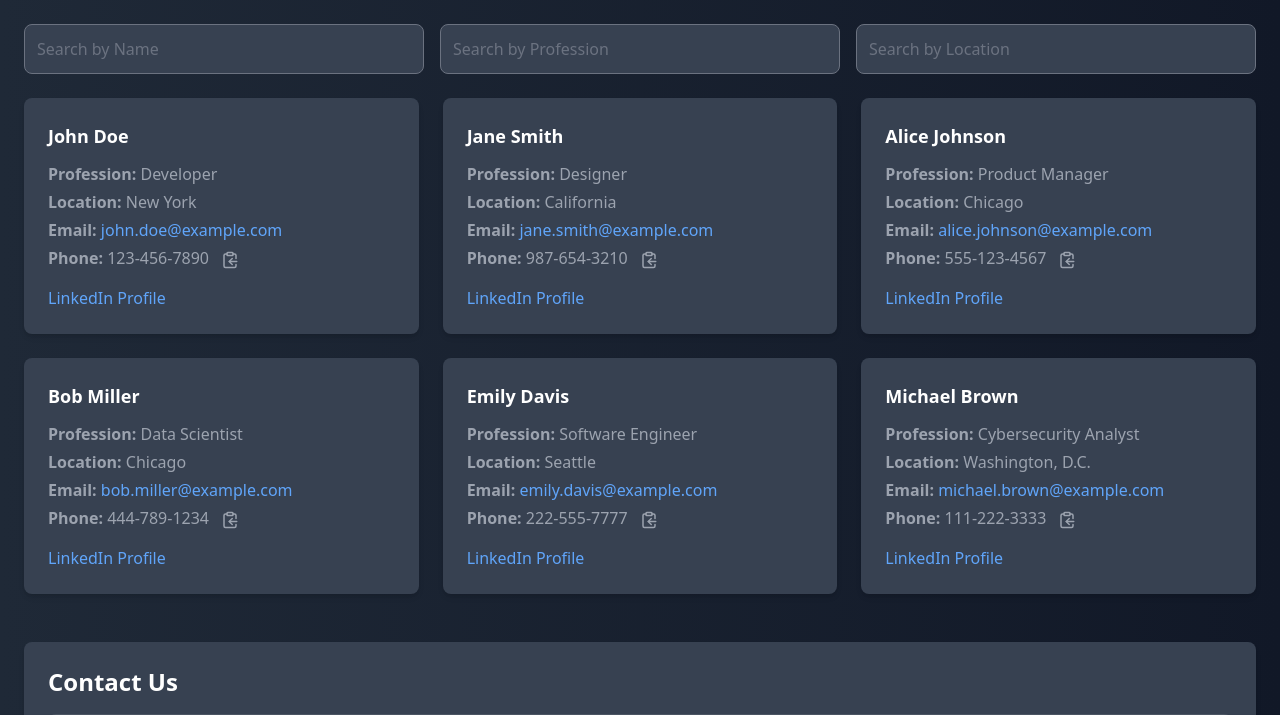
Test: CommunityPage Critical Tests › search fields work with by name within 2s
expect the heading "John Doe" is shown: met, box [48, 124, 129, 148]
// Simulate typing "John" in the name input
Type "John" into the field with test id "search-field".
click(224, 49); type("John")  # box [24, 24, 424, 74]
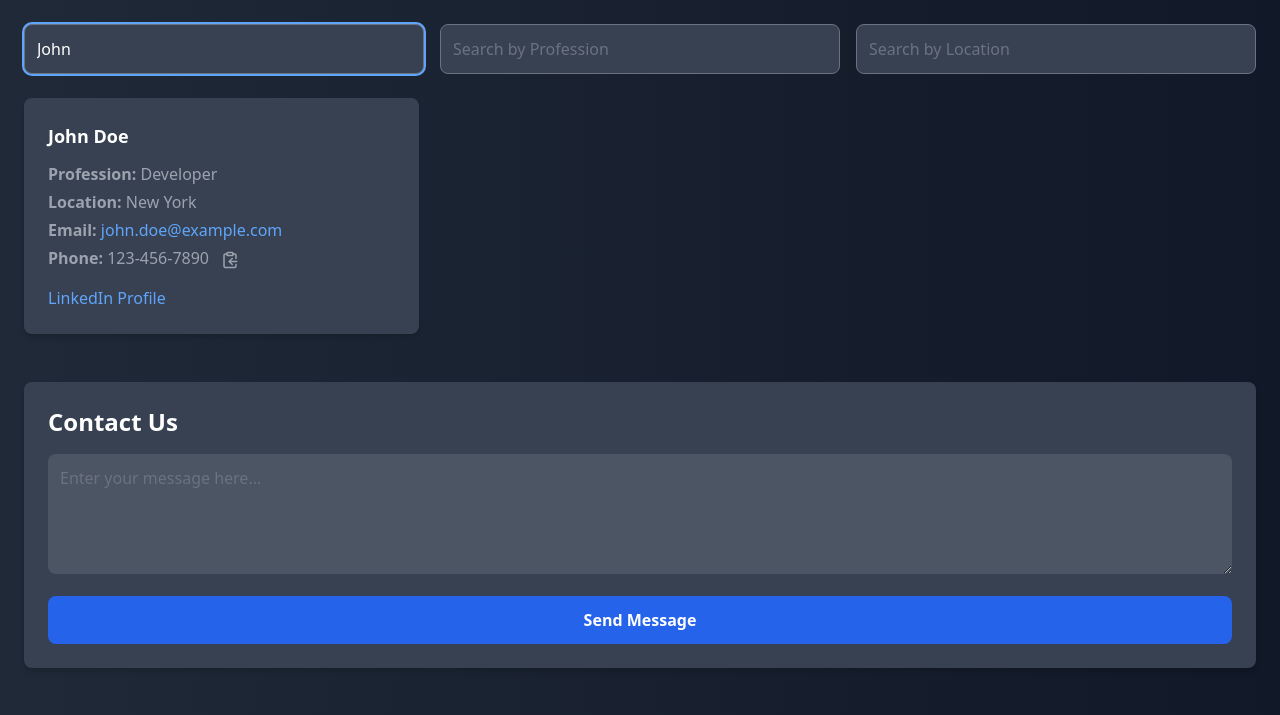
expect the heading "John Doe" is shown: met, box [48, 124, 129, 148]
expect the heading "Jane Smith" is gone: met
expect the heading "Alice Johnson" is gone: met
